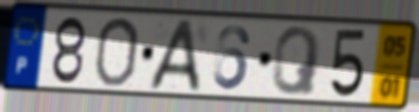5: (329, 28, 367, 100)
6: (212, 23, 253, 92)
8: (51, 15, 87, 85)
A: (146, 17, 203, 92)
O: (91, 15, 142, 89)
Q: (270, 24, 324, 97)
